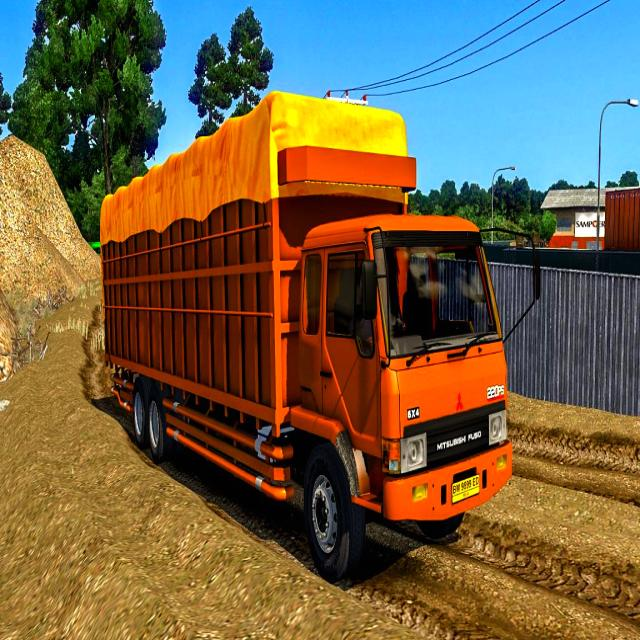truck: (101, 95, 538, 573)
